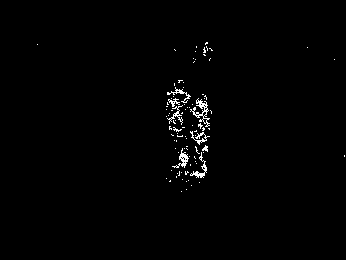person: (167, 80, 190, 174), (188, 93, 211, 178)
